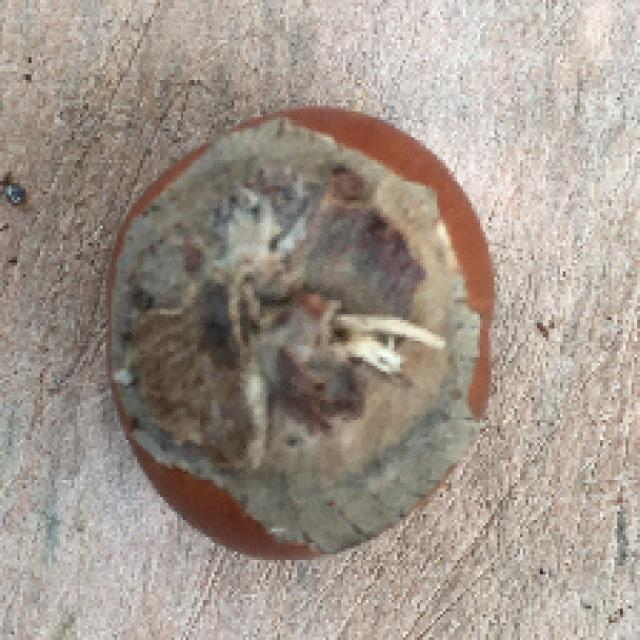damagedHazelnut: (90, 93, 514, 568)
